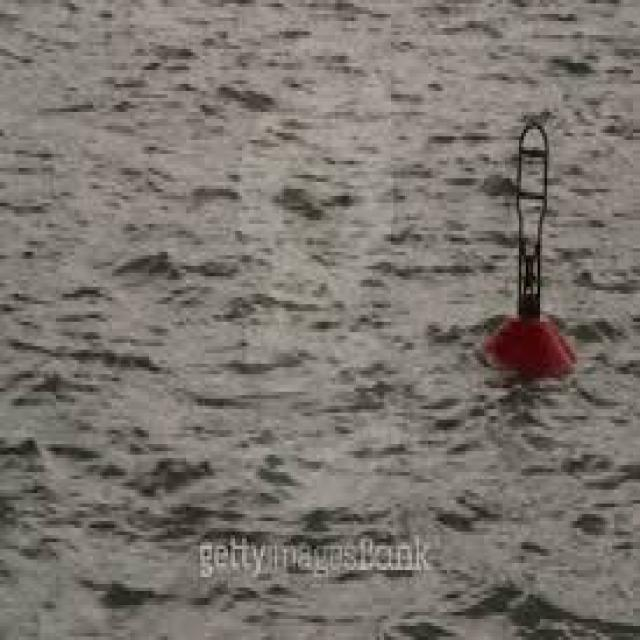marque: (476, 79, 582, 414)
